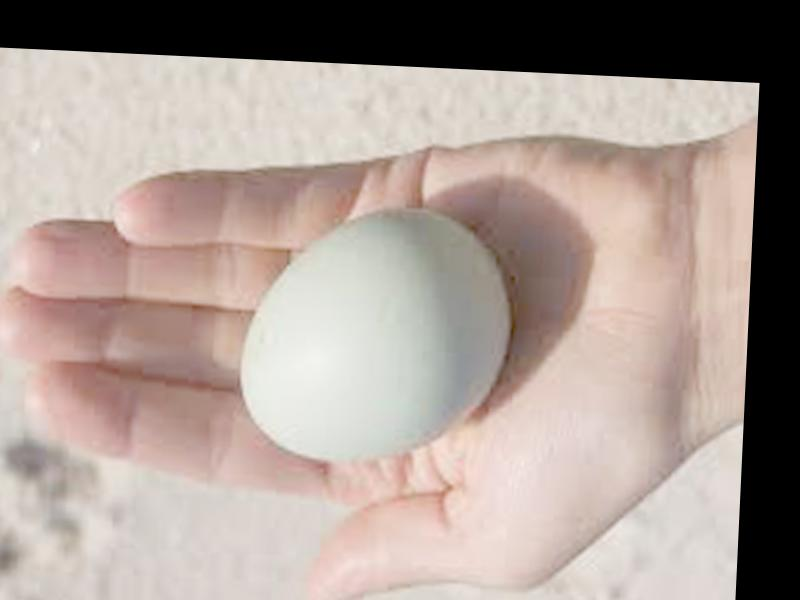Eggs: (233, 203, 509, 466)
